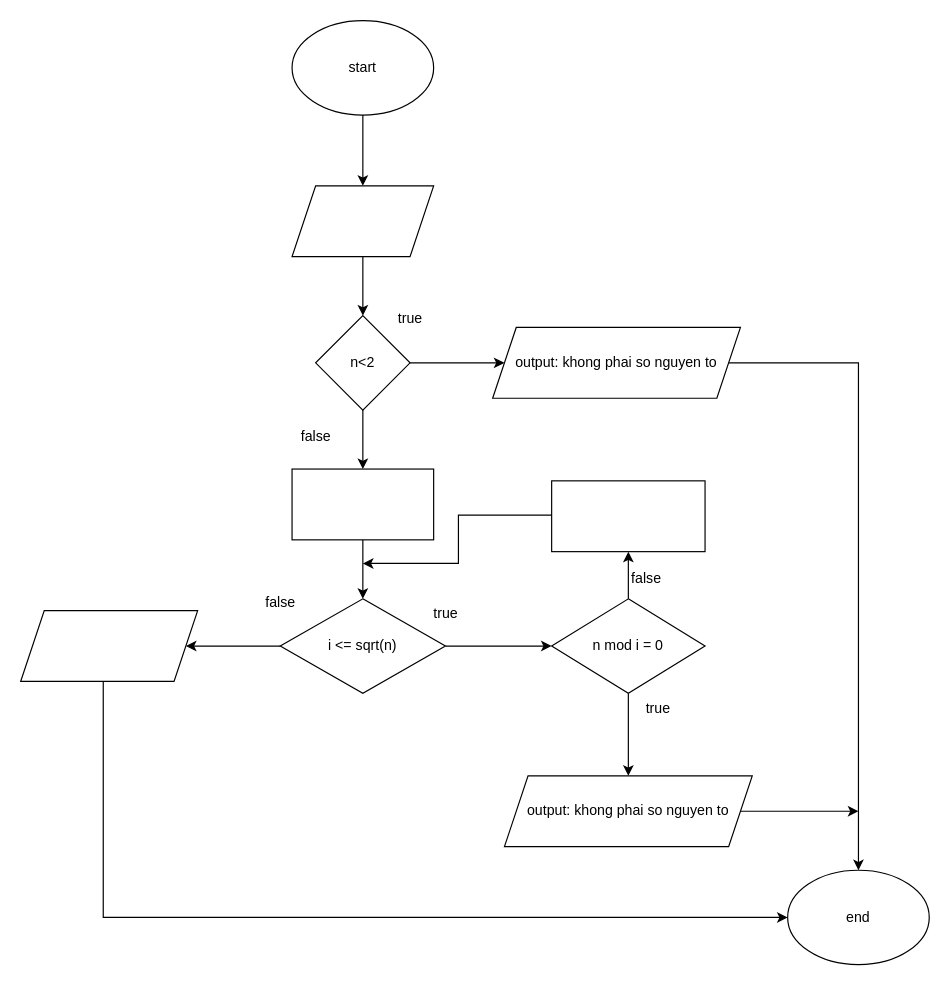
Some shapes in this 950 by 985 pixel diagram are drawn without their labels. The centre of each missing label's shape, as x and y in pixels:
"i = 2" belongs at pixel 362 504.
"i = i +1" belongs at pixel 627 516.
"input: n" belongs at pixel 362 221.
"output: la so nguyen to" belongs at pixel 108 645.
